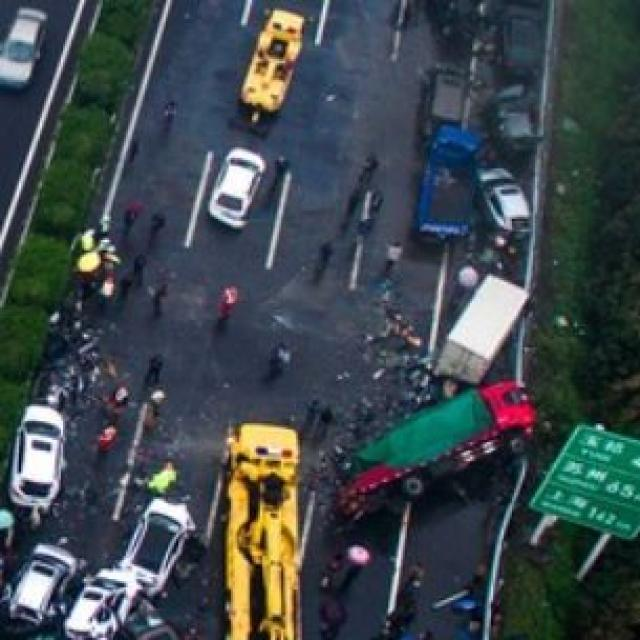traffic_incident: (0, 486, 191, 638), (328, 390, 540, 510)
